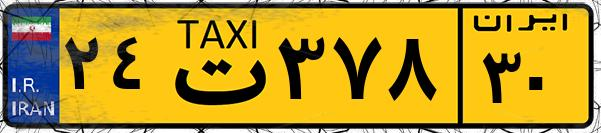0: (525, 38, 570, 115)
2: (57, 26, 110, 100)
3: (270, 28, 330, 110), (475, 38, 525, 113)
4: (110, 28, 158, 98)
7: (330, 28, 385, 110)
8: (385, 28, 445, 110)
ت: (158, 12, 270, 120)
